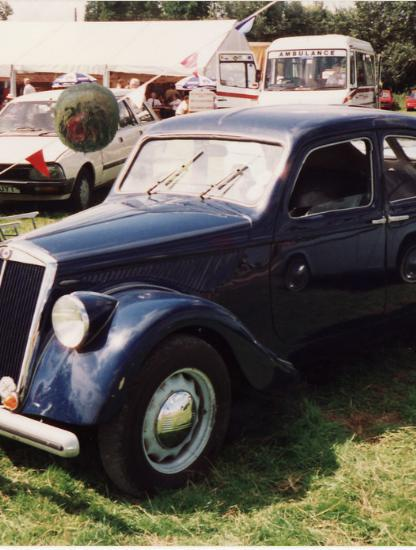Beetroot: (48, 80, 126, 158)
